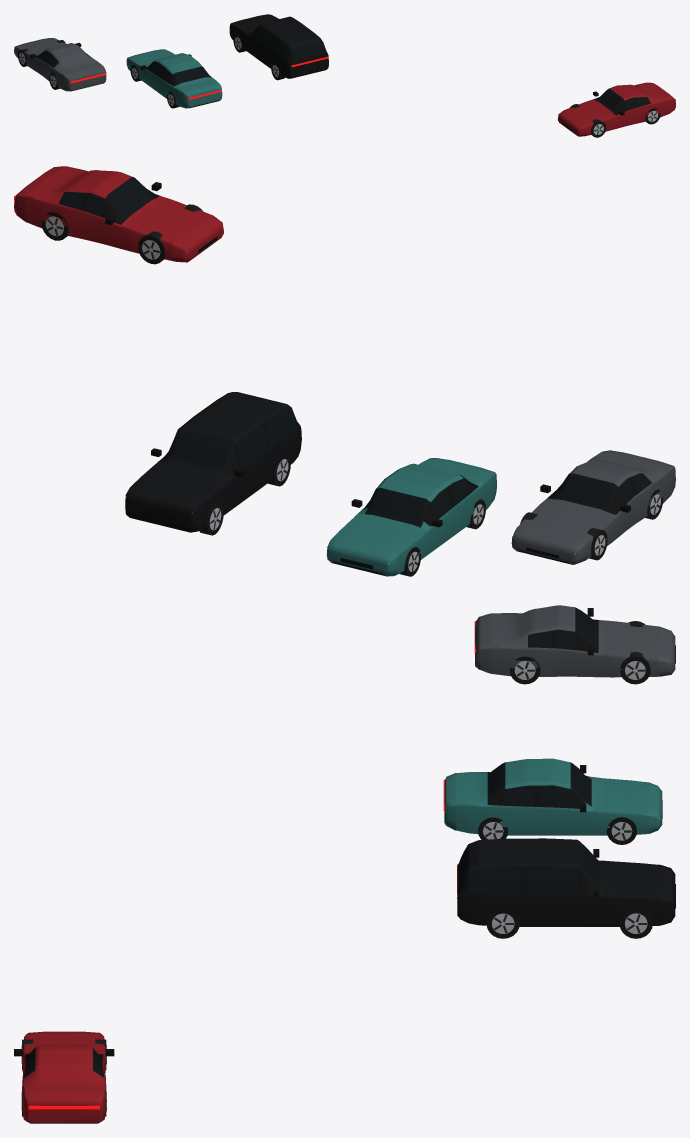
The model's file is apex_auto_lab_placeholder_cars.glb.
3 views of the same model, one above another, from view 1: azimuth 30°, elevation 25°; view 2: azimuth 150°, elevation 25°; view 3: azimuth 270°, elevation 25° (orthographic). The views are drawn at different scales.
Parts seen in each view (by area): view 1: P12_CAR_03_Suv_CarPaintBlack, P12_CAR_04_Coupe_CarPaintRed, P12_CAR_02_Sedan_CarWrapMatte, P12_CAR_01_Coupe_CarPaintGraphite; view 2: P12_CAR_03_Suv_CarPaintBlack, P12_CAR_04_Coupe_CarPaintRed, P12_CAR_02_Sedan_CarWrapMatte, P12_CAR_01_Coupe_CarPaintGraphite; view 3: P12_CAR_03_Suv_CarPaintBlack, P12_CAR_02_Sedan_CarWrapMatte, P12_CAR_01_Coupe_CarPaintGraphite, P12_CAR_04_Coupe_CarPaintRed.
Part boxes in pixels (<box>): P12_CAR_03_Suv_CarPaintBlack: <box>229,14,328,80</box>; P12_CAR_04_Coupe_CarPaintRed: <box>557,82,675,137</box>; P12_CAR_02_Sedan_CarWrapMatte: <box>126,49,222,108</box>; P12_CAR_01_Coupe_CarPaintGraphite: <box>14,38,106,91</box>; P12_CAR_03_Suv_CarPaintBlack: <box>125,392,301,535</box>; P12_CAR_04_Coupe_CarPaintRed: <box>14,166,223,264</box>; P12_CAR_02_Sedan_CarWrapMatte: <box>326,458,496,576</box>; P12_CAR_01_Coupe_CarPaintGraphite: <box>511,450,675,564</box>; P12_CAR_03_Suv_CarPaintBlack: <box>457,838,675,938</box>; P12_CAR_02_Sedan_CarWrapMatte: <box>443,758,662,844</box>; P12_CAR_01_Coupe_CarPaintGraphite: <box>474,605,675,684</box>; P12_CAR_04_Coupe_CarPaintRed: <box>14,1031,114,1123</box>.
Bounding box in the file's own units: 22.43 × 3.14 × 15.03.
